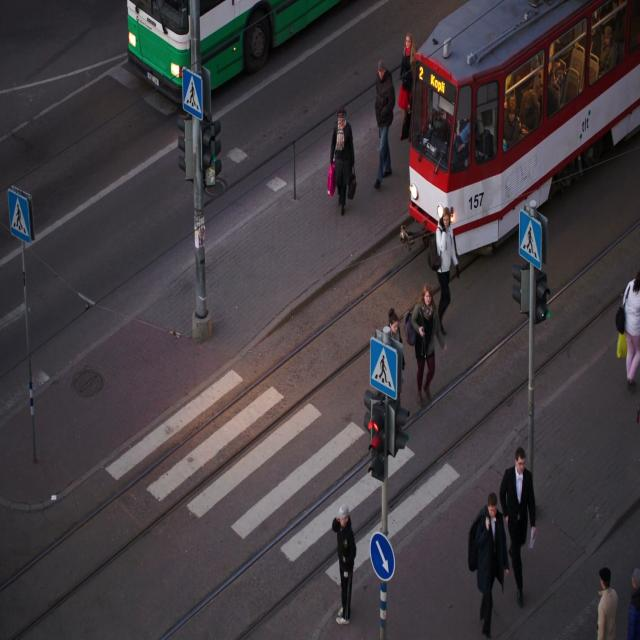pedestrian: (405, 207, 459, 406), (374, 60, 395, 188), (330, 108, 355, 214)
